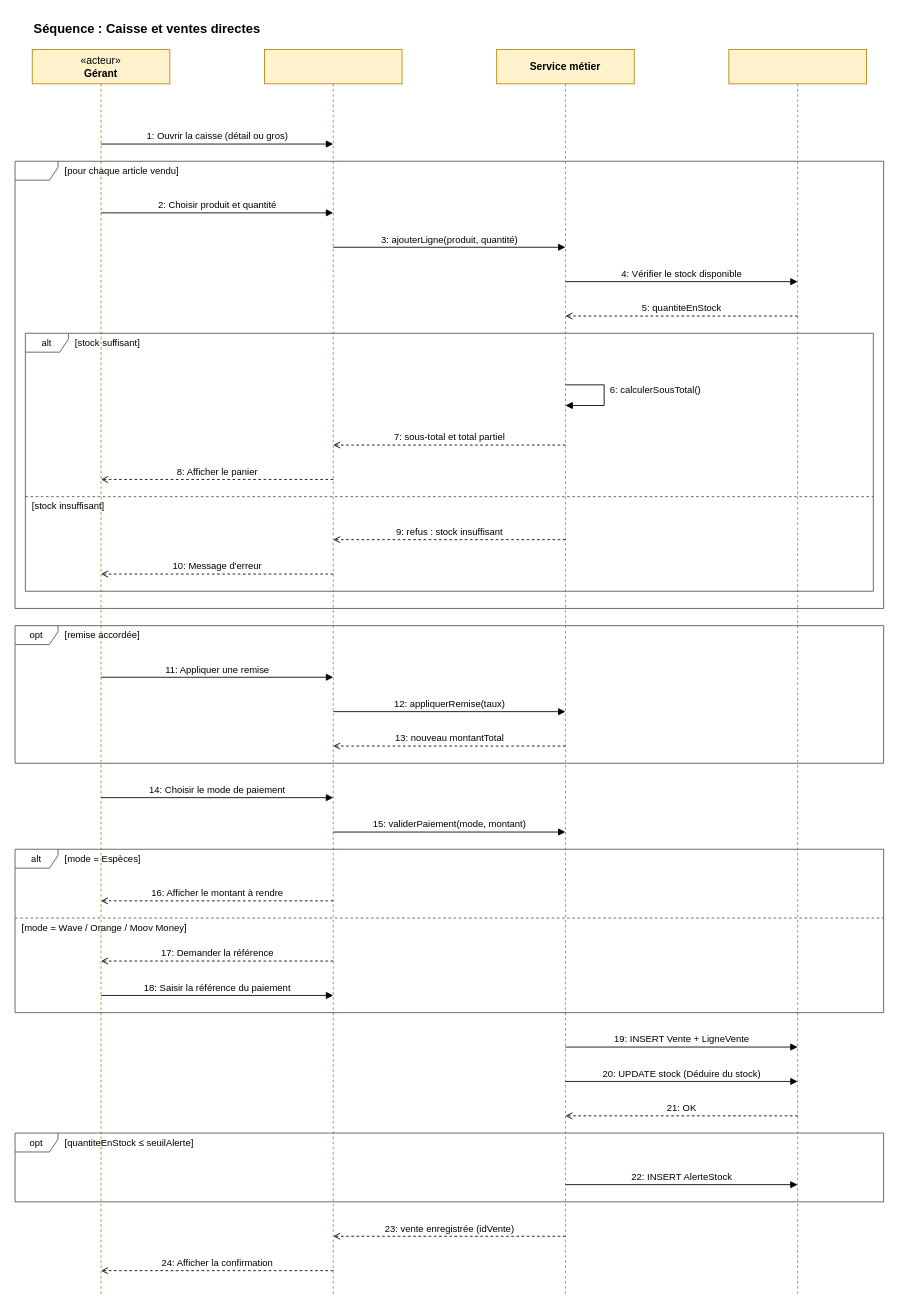
Some shapes in this 900 by 1312 pixel diagram are drawn without their labels. Each missing label, with the box of its shape:
Base de données locale: (728, 49, 866, 1296)
Interface J.COCO: (264, 49, 402, 1296)
loop: (14, 160, 884, 608)
